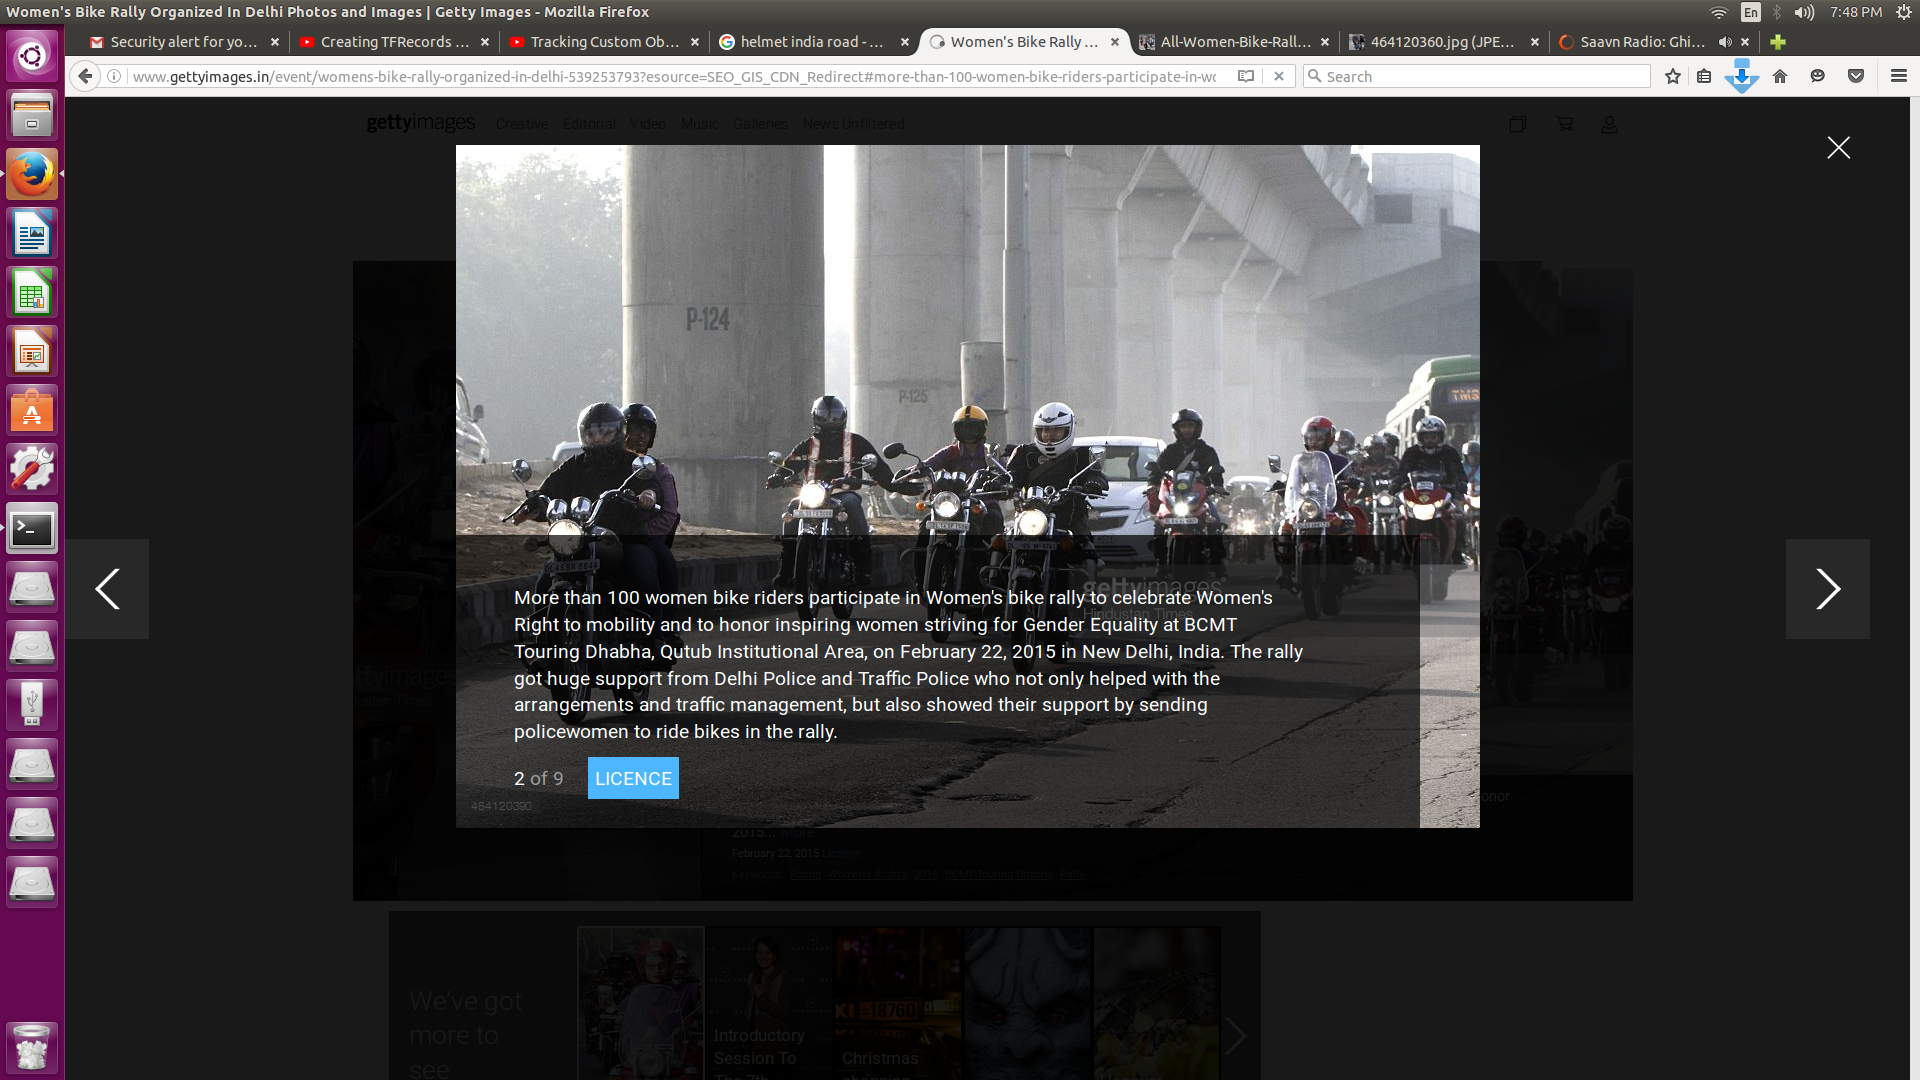helmet: (1029, 400, 1080, 455), (806, 382, 852, 440), (578, 392, 622, 451), (948, 396, 996, 448), (1164, 400, 1209, 446), (1162, 398, 1207, 444)
